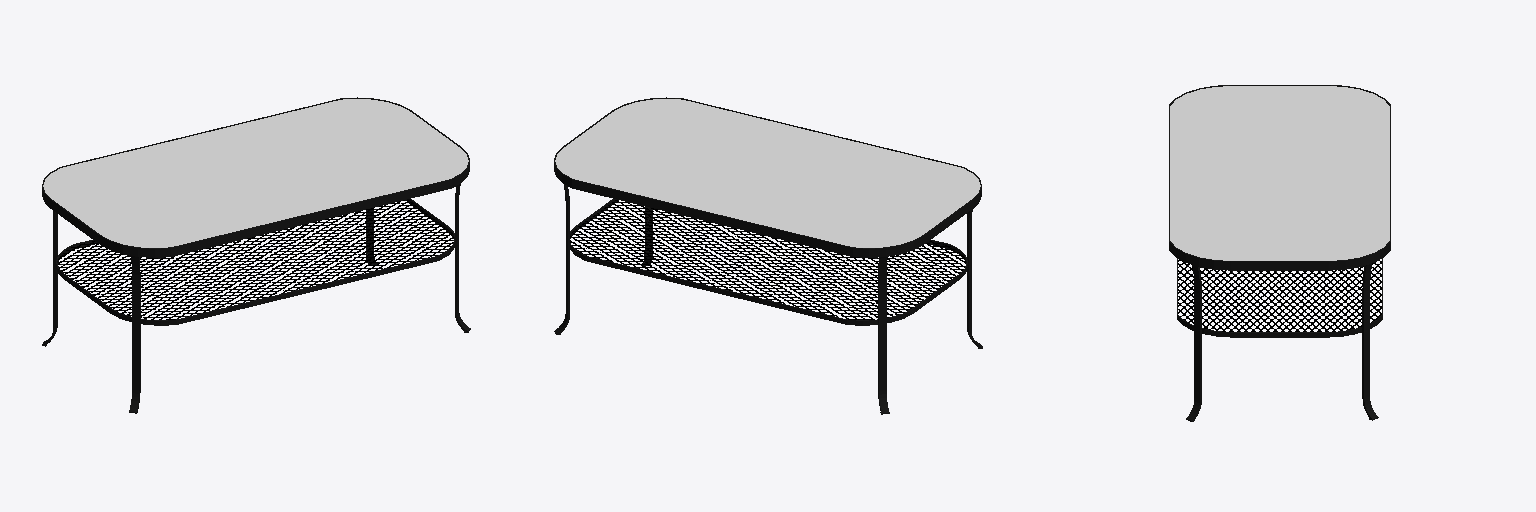
The picture shows the model from 3 angles: view 1: azimuth 30°, elevation 25°; view 2: azimuth 150°, elevation 25°; view 3: azimuth 270°, elevation 25°; orthographic projection.
Visible parts, largest first — view 1: Mesh57 Model, Mesh58 Model, Mesh1 Component_5_1 Model, Mesh28 Component_1_5 Component_2_3 Model, Mesh41 Component_1_7 Component_2_4 Model, Mesh15 Component_1_3 Component_2_2 Model, Mesh2 Component_1_1 Component_2_1 Model, Mesh55 Component_5_3 Model, Mesh54 Component_5_2 Model; view 2: Mesh57 Model, Mesh58 Model, Mesh54 Component_5_2 Model, Mesh37 Component_1_6 Component_2_3 Model, Mesh50 Component_1_8 Component_2_4 Model, Mesh24 Component_1_4 Component_2_2 Model, Mesh11 Component_1_2 Component_2_1 Model, Mesh1 Component_5_1 Model, Mesh56 Component_5_4 Model; view 3: Mesh57 Model, Mesh58 Model, Mesh55 Component_5_3 Model, Mesh56 Component_5_4 Model, Mesh40 Component_2_3 Model, Mesh14 Component_2_1 Model.
Boxes of the visible parts, x1=… form: Mesh57 Model: x1=43, y1=99, x2=468, y2=247; Mesh58 Model: x1=58, y1=200, x2=453, y2=319; Mesh1 Component_5_1 Model: x1=129, y1=256, x2=140, y2=413; Mesh28 Component_1_5 Component_2_3 Model: x1=311, y1=179, x2=451, y2=222; Mesh41 Component_1_7 Component_2_4 Model: x1=171, y1=213, x2=310, y2=256; Mesh15 Component_1_3 Component_2_2 Model: x1=176, y1=288, x2=307, y2=324; Mesh2 Component_1_1 Component_2_1 Model: x1=308, y1=256, x2=438, y2=292; Mesh55 Component_5_3 Model: x1=455, y1=184, x2=470, y2=332; Mesh54 Component_5_2 Model: x1=42, y1=211, x2=57, y2=346; Mesh57 Model: x1=555, y1=99, x2=980, y2=247; Mesh58 Model: x1=570, y1=200, x2=965, y2=319; Mesh54 Component_5_2 Model: x1=878, y1=257, x2=889, y2=414; Mesh37 Component_1_6 Component_2_3 Model: x1=572, y1=179, x2=712, y2=222; Mesh50 Component_1_8 Component_2_4 Model: x1=713, y1=213, x2=852, y2=256; Mesh24 Component_1_4 Component_2_2 Model: x1=716, y1=288, x2=847, y2=324; Mesh11 Component_1_2 Component_2_1 Model: x1=585, y1=256, x2=715, y2=292; Mesh1 Component_5_1 Model: x1=967, y1=209, x2=982, y2=348; Mesh56 Component_5_4 Model: x1=554, y1=184, x2=569, y2=334; Mesh57 Model: x1=1170, y1=86, x2=1389, y2=260; Mesh58 Model: x1=1178, y1=259, x2=1381, y2=331; Mesh55 Component_5_3 Model: x1=1186, y1=265, x2=1201, y2=421; Mesh56 Component_5_4 Model: x1=1362, y1=264, x2=1378, y2=420; Mesh40 Component_2_3 Model: x1=1231, y1=261, x2=1328, y2=270; Mesh14 Component_2_1 Model: x1=1234, y1=332, x2=1325, y2=337.
Size of the model in its own units: 71.34 by 31.2 by 37.82.
3 materials, 1 textured.